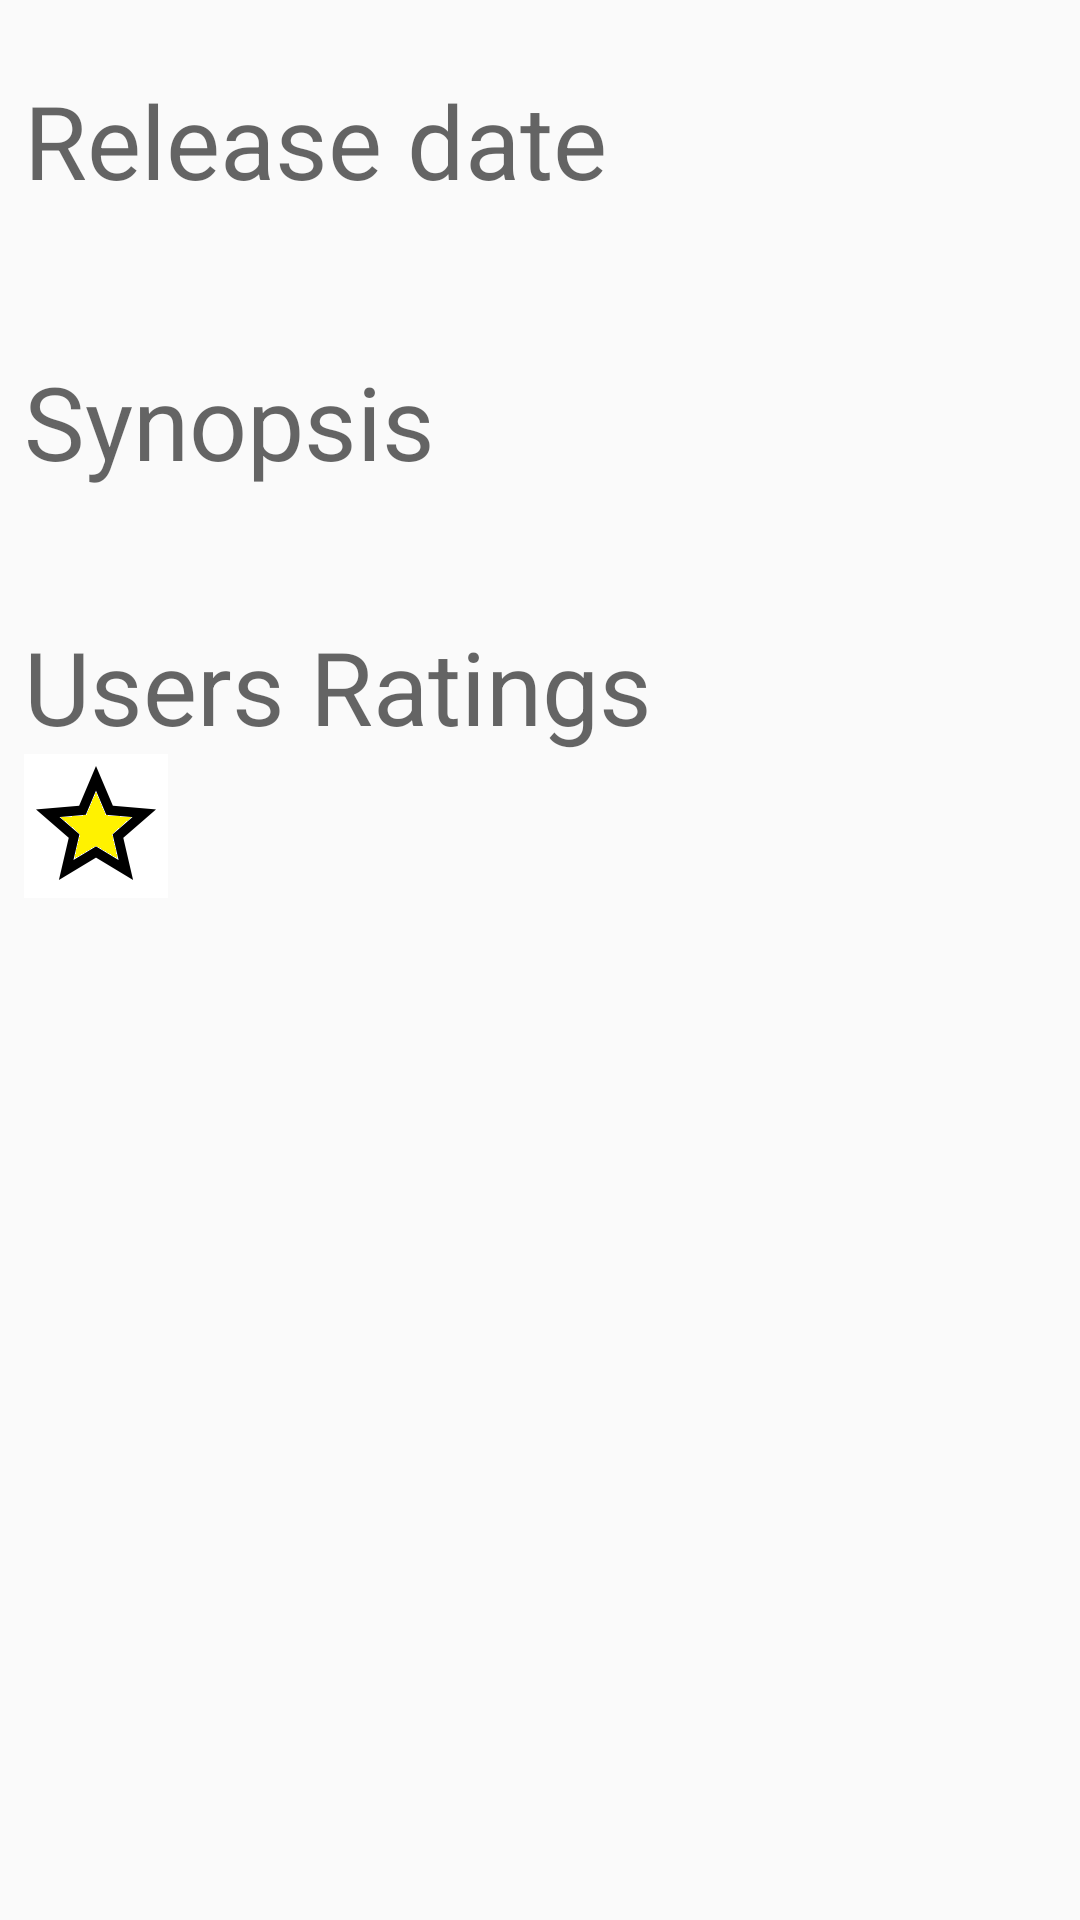

Icons on this 1080*1920 Android screen, each with the point to tap as (x,y):
star border: (96,823)
